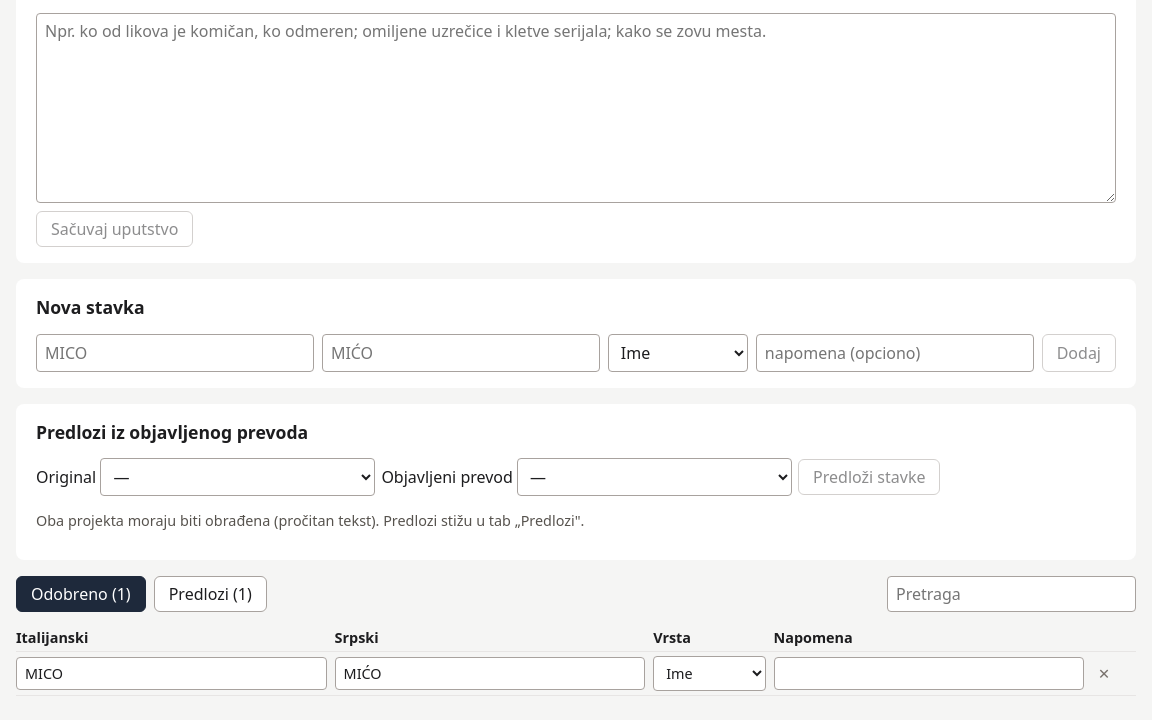
GlossaryPage › prikazuje odobrene stavke i predloge
(page scrolled)
Expected: the field showing "MIĆO" is shown, [335,657,645,690]
Expected: the field showing "GREJVUD" is not shown
Click the tab "Predlozi (1)".
click(210, 594)  # box [154,576,267,612]
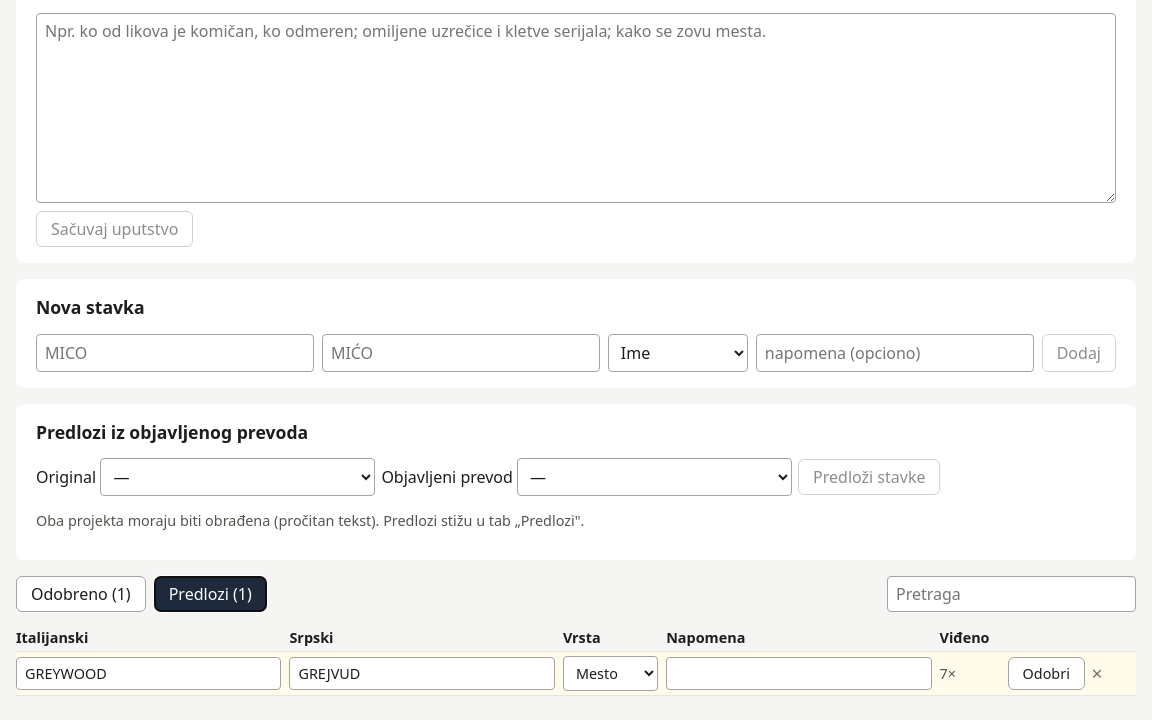
Now the field showing "GREJVUD" is shown, box [289,657,555,690]
Now the text "7×" is shown, box [940,652,1008,696]
